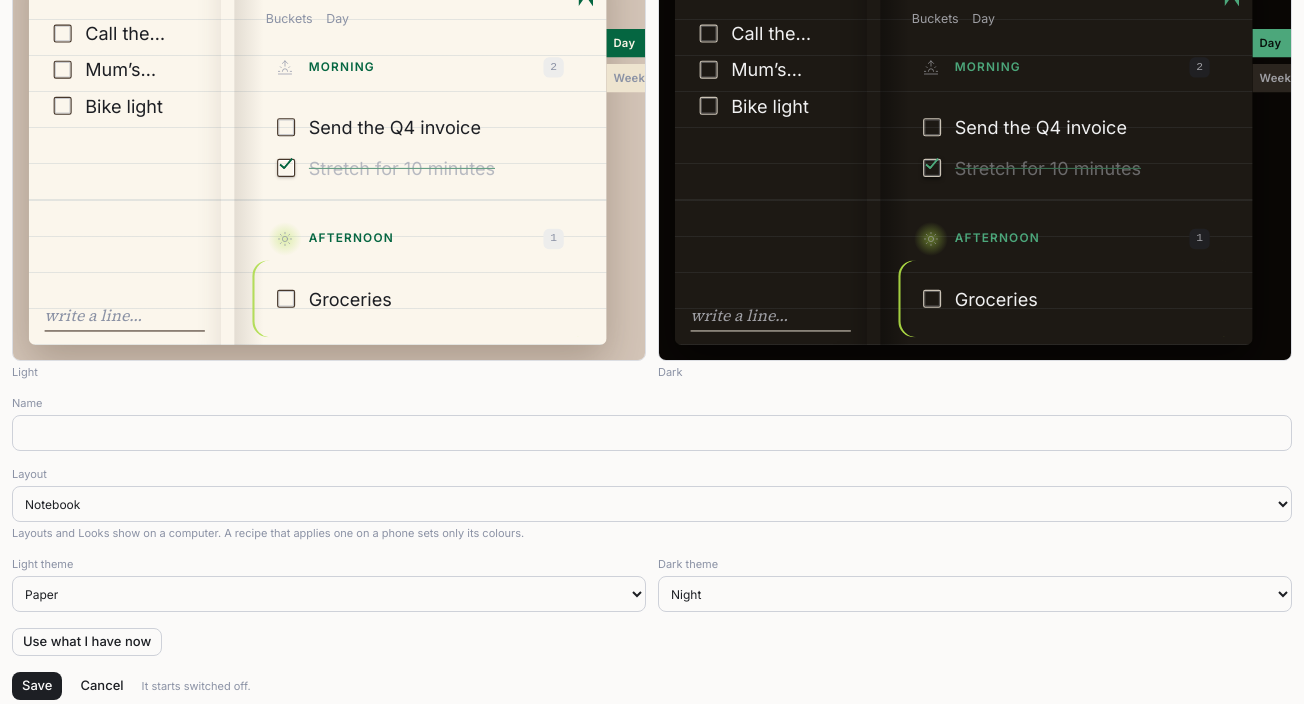
Scenario: LookBuilder › will not save without a name
(page scrolled)
Click the button with test id "look-save" at {"x": 37, "y": 686}, box x1=12 y1=672 x2=62 y2=700
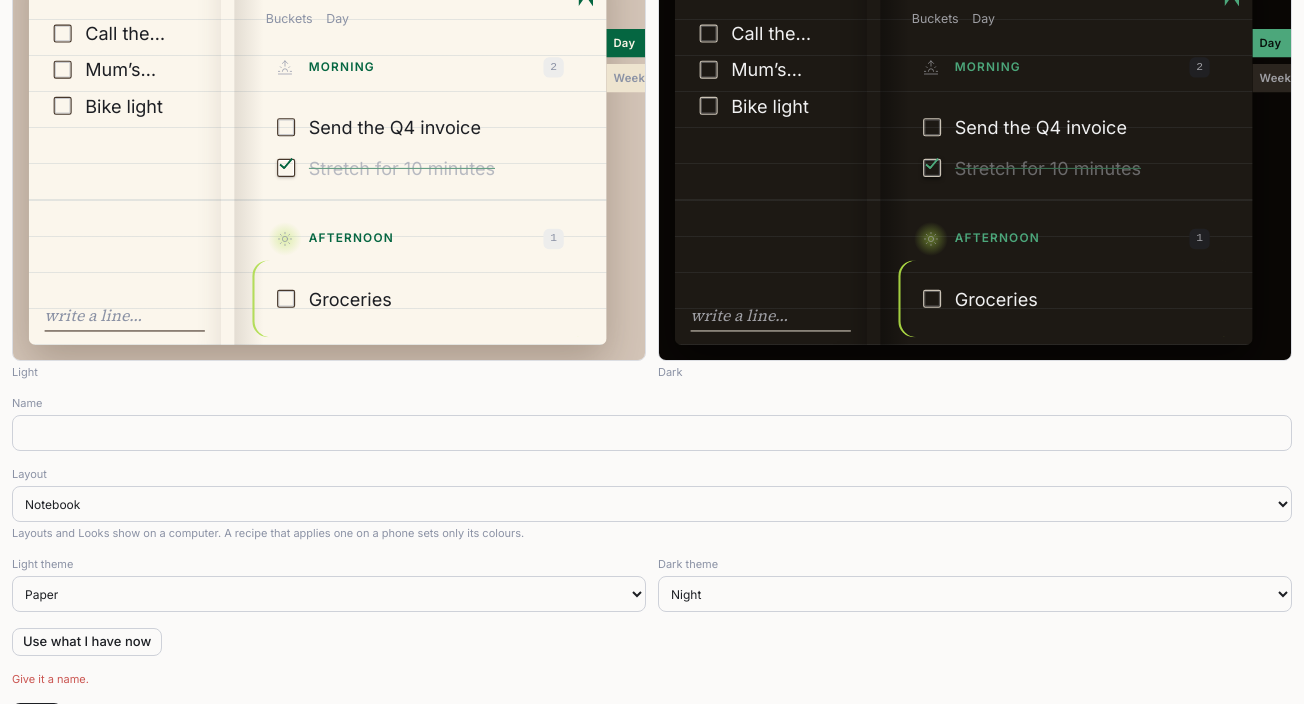
expect the message with test id "look-problems" reads "Give it a name.": met, box x1=12 y1=672 x2=89 y2=686
